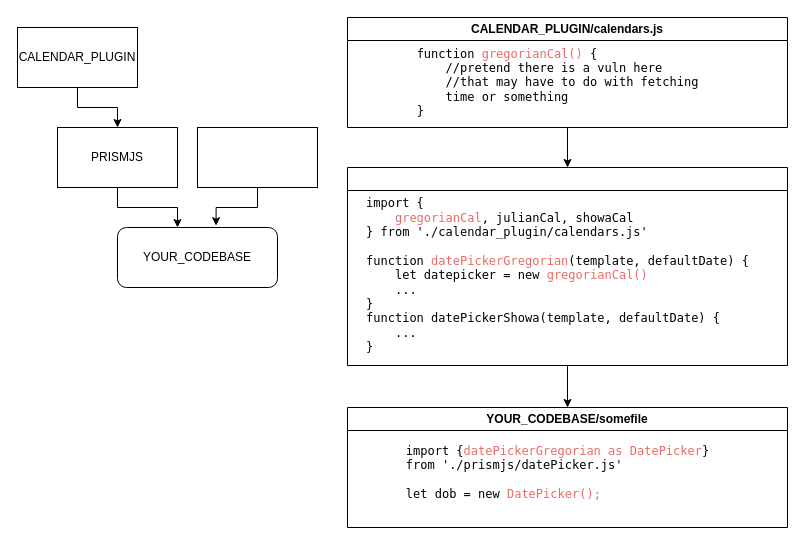
This 805x545 diagram has some shape labels left out. The shapes that lost their labels are listed below. From the top down, each one's box as (x1, y1, x2, y2) in pixels, then its label:
(196, 126, 318, 188): MARKPROMPT
(346, 166, 788, 366): PRISMJS/datePicker.js
